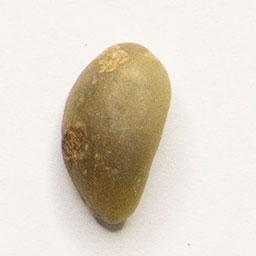longberry: (58, 37, 173, 229)
